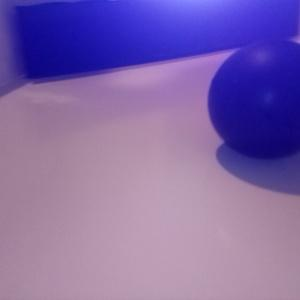dead_ball: (208, 40, 300, 160)
